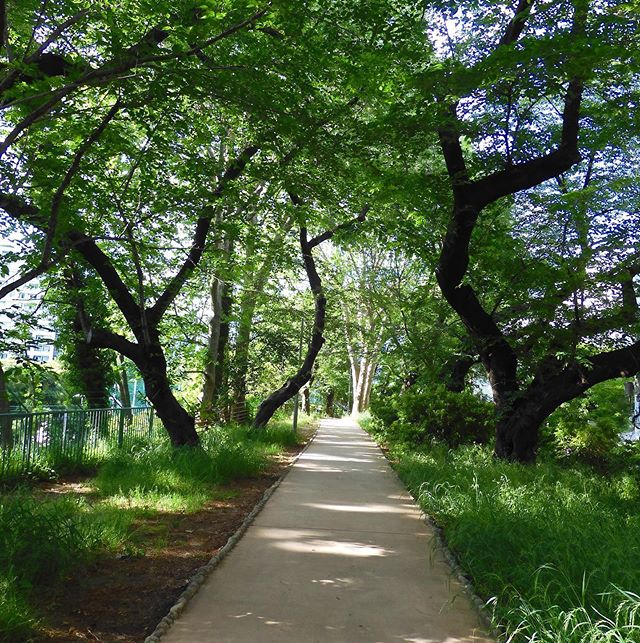street: (170, 423, 496, 643)
vegetation: (1, 1, 633, 459)
